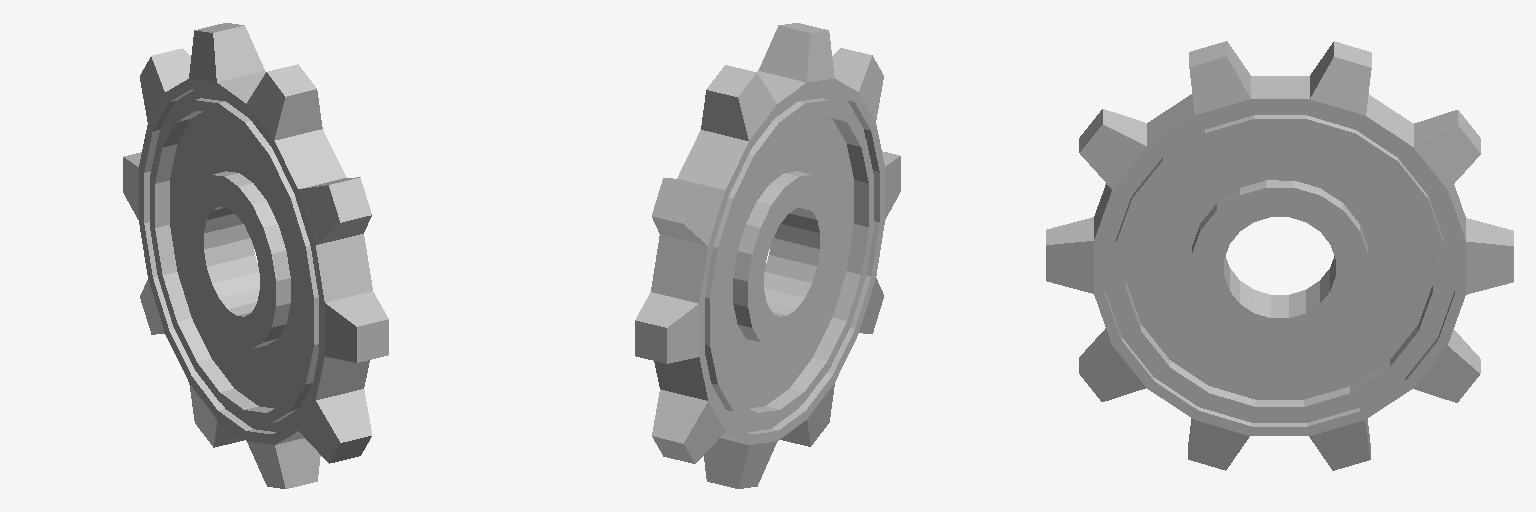
Rendered from BigCog.obj.
3 views of the same model, side by side, from view 1: azimuth 30°, elevation 25°; view 2: azimuth 150°, elevation 25°; view 3: azimuth 270°, elevation 25° (orthographic).
Parts seen in each view (by area): view 1: pPipe1; view 2: pPipe1; view 3: pPipe1.
Boxes of the visible parts, box(x1,y1,x2,y2) form: pPipe1: box(123, 23, 388, 488); pPipe1: box(635, 23, 900, 488); pPipe1: box(1046, 41, 1513, 470).
Size of the model in its own units: 2.63 by 21.53 by 22.02.